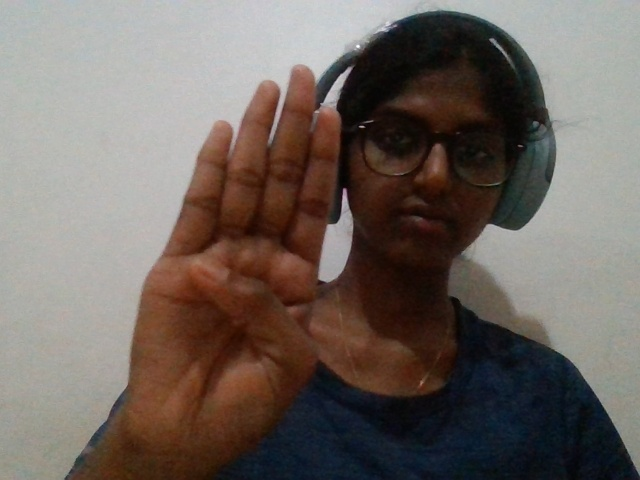B: (90, 48, 359, 460)
